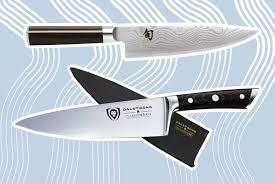Knife: (23, 22, 258, 58)
